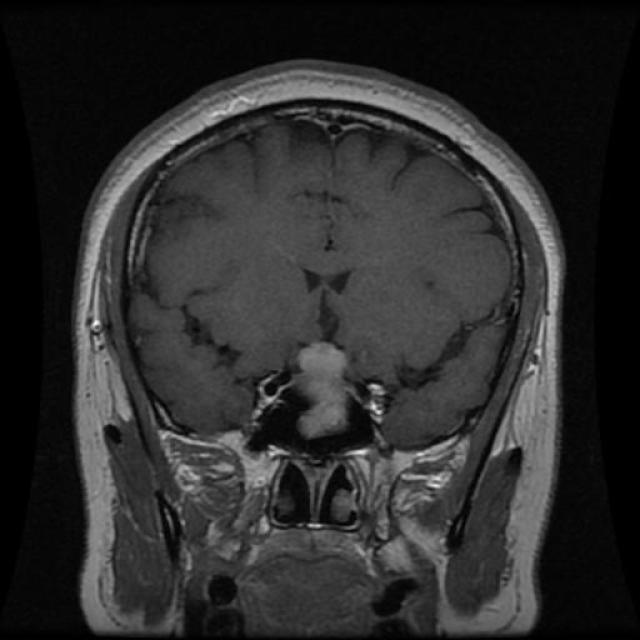pituitary: (280, 319, 362, 442)
